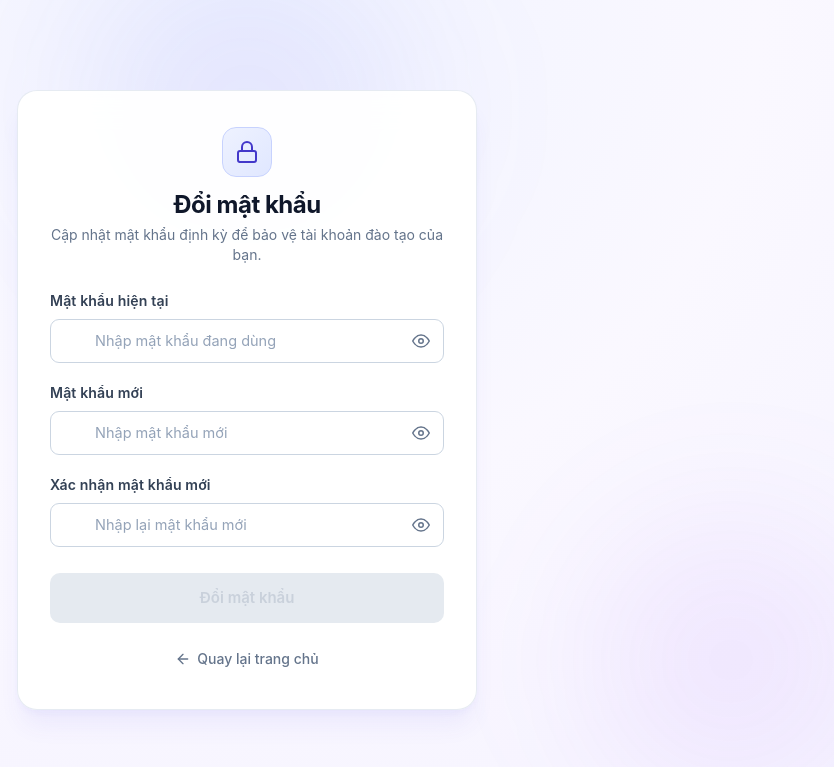
Scenario: ChangePasswordPage (SCRUM-52) › 14. SCRUM-57: đổi mật khẩu thất bại -> hiển thị lỗi và giữ lại dữ liệu
The image size is (834, 767).
Step 1. Type "WrongCurrentPass123!" into the password field labelled "Mật khẩu hiện tại" → (247, 341), box [50,319,444,363]
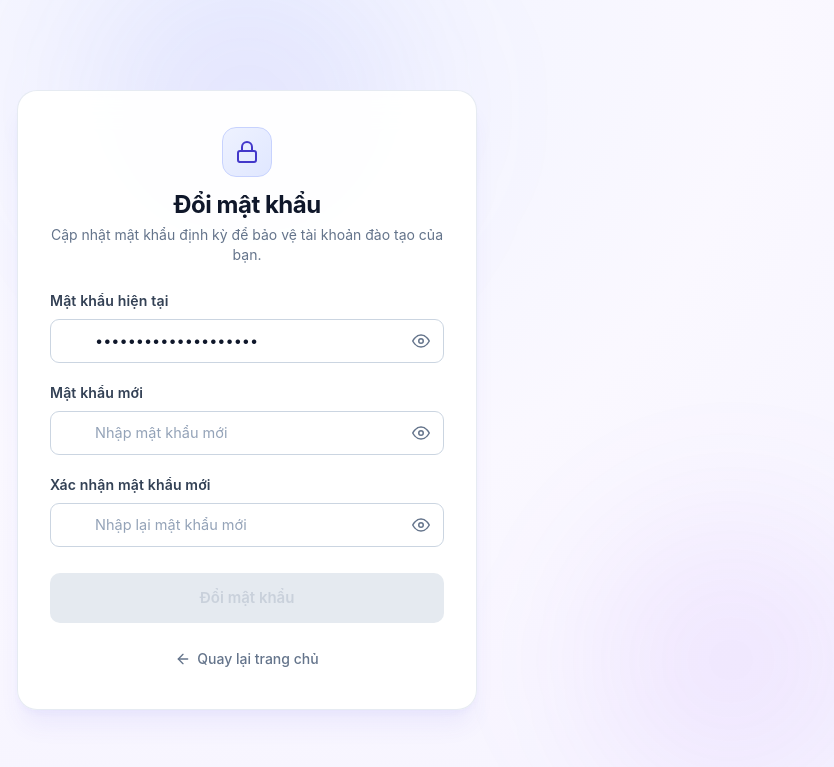
Step 2. Type "NewSecurePass456!" into the password field labelled "Mật khẩu mới" → (247, 433), box [50,411,444,455]
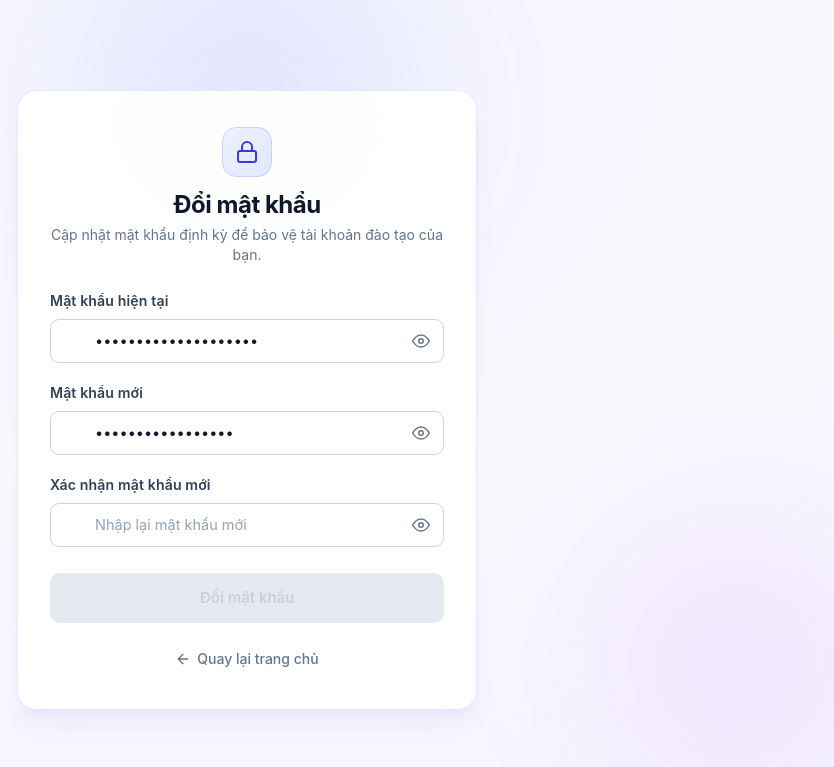
Step 3. Type "NewSecurePass456!" into the password field labelled "Xác nhận mật khẩu mới" → (247, 525), box [50,503,444,547]
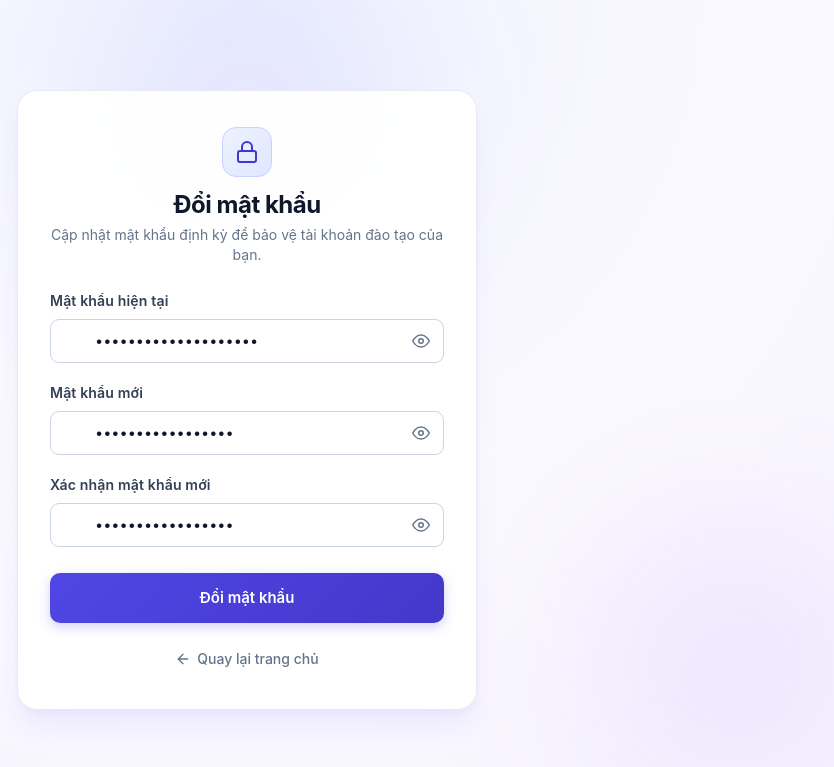
Step 4. Click the button "Đổi mật khẩu" → (247, 598), box [50,573,444,623]
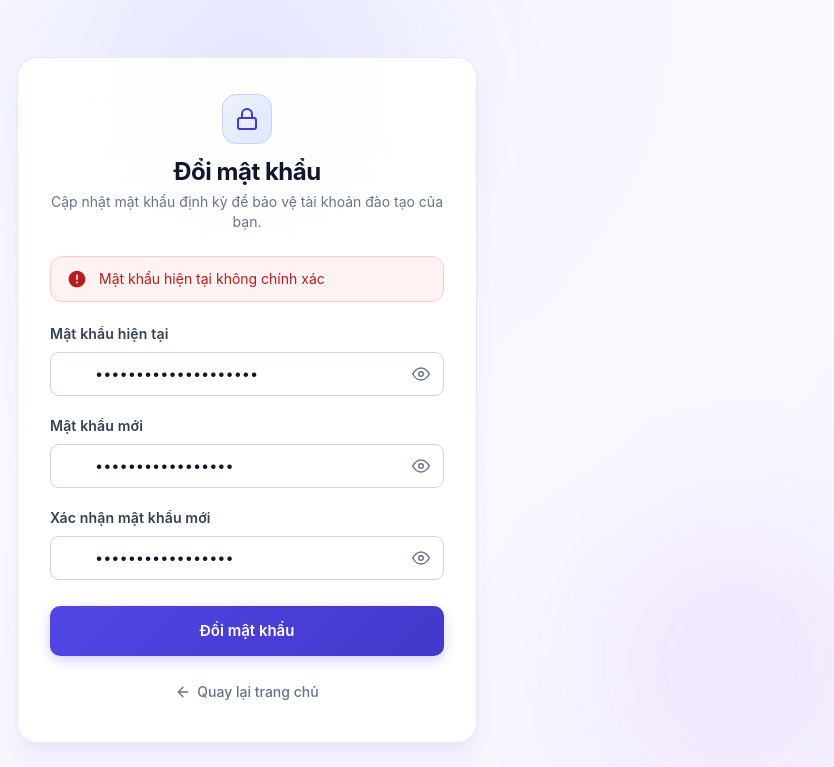
Now the message "Mật khẩu hiện tại không chính xác" is shown, box [50,256,444,302]
Now the text "Mật khẩu hiện tại không chính xác" is shown, box [99,269,325,288]
